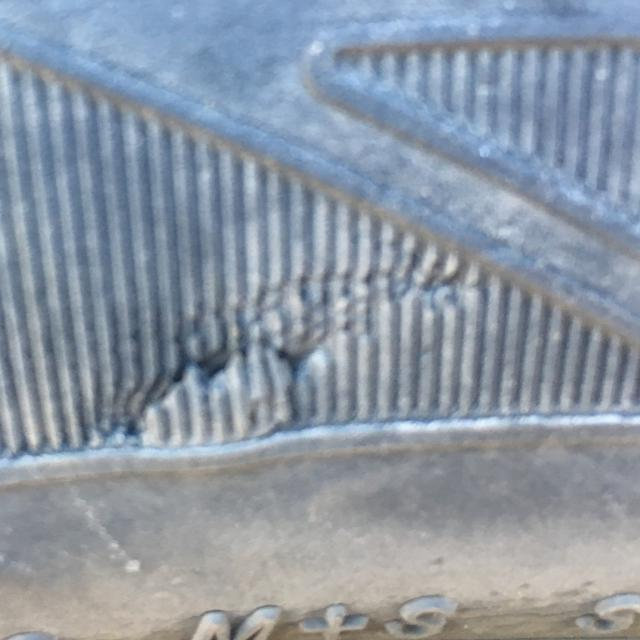Cracks: (68, 233, 522, 486)
